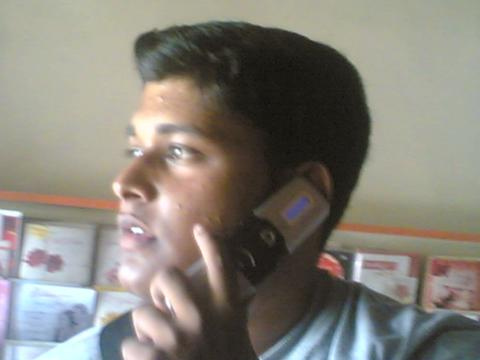person: (36, 22, 480, 360)
